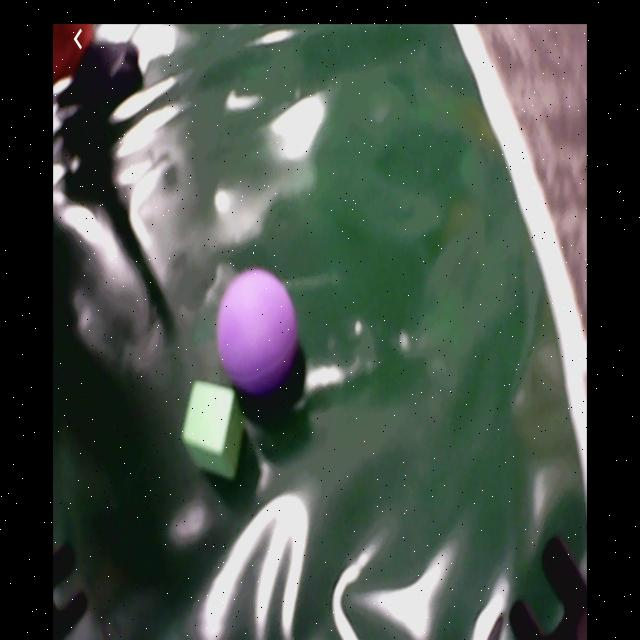ball: (220, 270, 299, 391)
